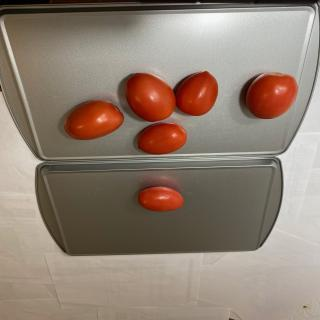Tomato: (125, 72, 176, 122), (246, 72, 298, 119), (64, 100, 124, 140), (176, 71, 218, 116), (137, 122, 187, 155), (138, 186, 185, 212)
